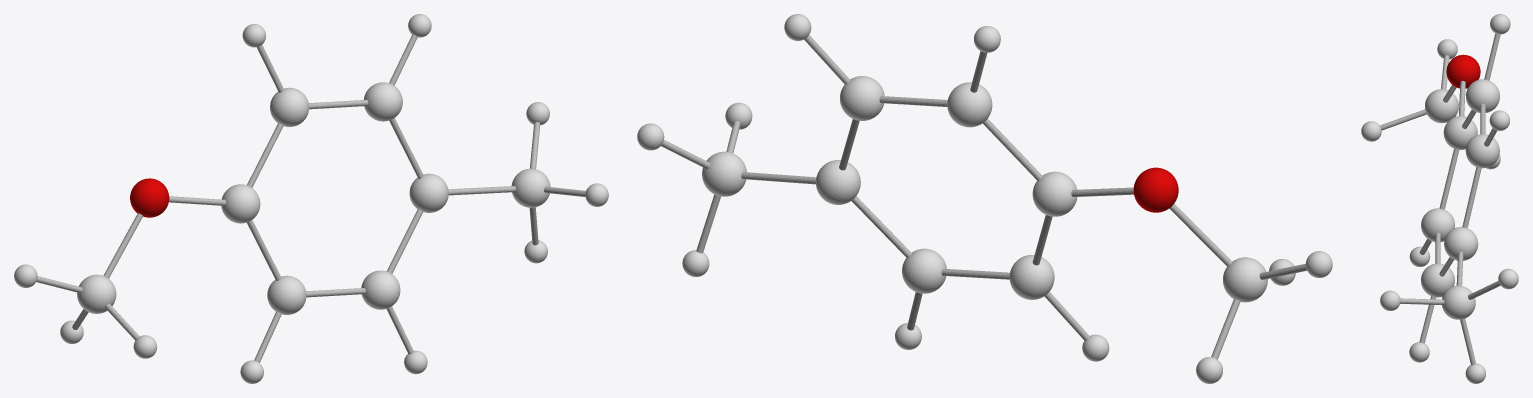
The model's file is COc1ccc_cc1_C.glb.
The picture shows the model from 3 angles, left to right: view 1: azimuth 30°, elevation 25°; view 2: azimuth 150°, elevation 25°; view 3: azimuth 270°, elevation 25°; orthographic projection. The views are drawn at different scales.
Parts seen in each view (by area): view 1: world; view 2: world; view 3: world.
Part boxes in pixels (left/top/right/bottom): world: left=14, top=14, right=608, bottom=383; world: left=637, top=14, right=1332, bottom=383; world: left=1361, top=14, right=1518, bottom=383.
Bounding box in the file's own units: 8.34 × 4.8 × 2.3.
